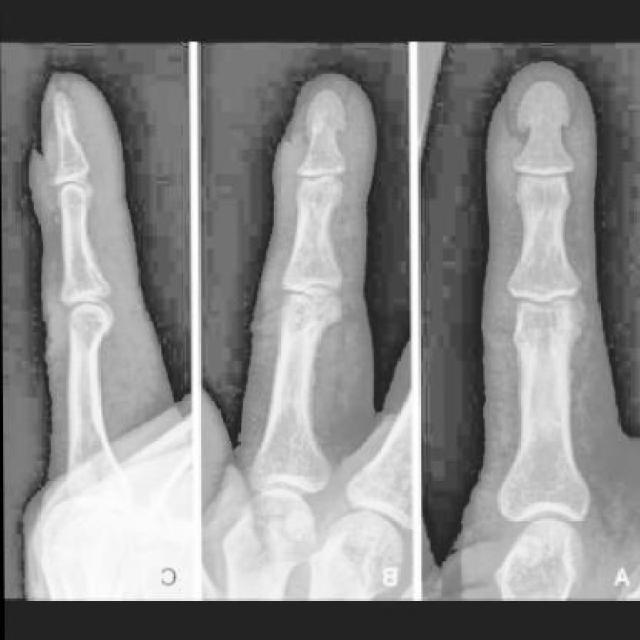Fracture: (511, 71, 576, 134), (302, 77, 358, 140), (48, 89, 84, 140)
